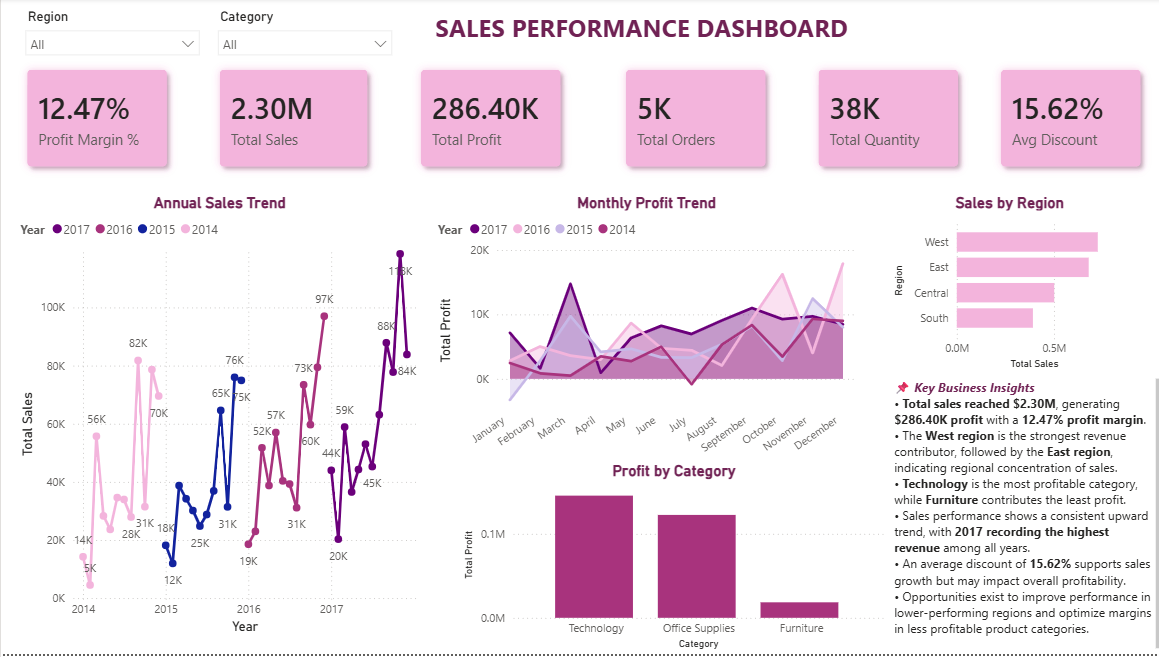

This screenshot's page, from the dashboard's own definition file:
{"tool":"powerbi","page":{"name":"Page 1","canvas":[1280,720],"ordinal":0},"visuals":[{"type":"cardVisual","fields":{"Data":["Orders.Total Sales"]},"box":[211.3,54.9,220.9,159.2],"z":0},{"type":"textbox","box":[463.8,9.6,478.9,54.9],"z":1000},{"type":"cardVisual","fields":{"Data":["Orders.Total Profit"]},"box":[432.2,54.9,211.3,159.2],"z":2000},{"type":"cardVisual","fields":{"Data":["Orders.Total Orders"]},"box":[657.3,54.9,211.3,159.2],"z":3000},{"type":"cardVisual","fields":{"Data":["Orders.Total Quantity"]},"box":[868.6,54.9,211.3,159.2],"z":4000},{"type":"cardVisual","fields":{"Data":["Orders.Profit Margin %"]},"box":[0,54.9,211.3,159.2],"z":5000},{"type":"cardVisual","fields":{"Data":["Orders.Avg Discount"]},"box":[1069,54.9,211.3,159.2],"z":6000},{"type":"slicer","fields":{"Values":["Orders.Region"]},"box":[16.5,6.9,211.3,60.4],"z":7000},{"type":"slicer","fields":{"Values":["Orders.Category"]},"box":[227.8,6.9,211.3,61.7],"z":8000},{"type":"lineChart","title":"Annual Sales Trend","fields":{"Series":["DateTable.Year"],"Y":["Orders.Total Sales"],"Category":["DateTable.Date.Variation.Date Hierarchy.Year","DateTable.Date.Variation.Date Hierarchy.Quarter","DateTable.Date.Variation.Date Hierarchy.Month","DateTable.Date.Variation.Date Hierarchy.Day"]},"box":[16.5,214.1,447.3,488.5],"z":9000},{"type":"areaChart","title":"Monthly Profit Trend","fields":{"Series":["DateTable.Year"],"Y":["Orders.Total Profit"],"Category":["DateTable.Month"]},"box":[474.8,214.1,467.9,321.1],"z":10000},{"type":"clusteredBarChart","title":"Sales by Region","fields":{"Category":["Orders.Region"],"Y":["Orders.Total Sales"]},"box":[975.6,214.1,263.5,199],"z":11000},{"type":"clusteredColumnChart","title":"Profit by Category","fields":{"Category":["Orders.Category"],"Y":["Orders.Total Profit"]},"box":[503.6,509.1,470.7,211.3],"z":12000},{"type":"textbox","box":[975.6,413,304.6,307.4],"z":12001}]}

Visuals, with their boxes in screenshot pixels (x1, y1, x2, y2), scaled from the page's 1280x720 canvas onto the 1159x657 screenshot:
cardVisual - Orders.Total Sales: box=[191, 50, 391, 195]
textbox: box=[420, 9, 854, 59]
cardVisual - Orders.Total Profit: box=[391, 50, 583, 195]
cardVisual - Orders.Total Orders: box=[595, 50, 786, 195]
cardVisual - Orders.Total Quantity: box=[786, 50, 978, 195]
cardVisual - Orders.Profit Margin %: box=[0, 50, 191, 195]
cardVisual - Orders.Avg Discount: box=[968, 50, 1158, 195]
slicer - Orders.Region: box=[15, 6, 206, 61]
slicer - Orders.Category: box=[206, 6, 398, 63]
"Annual Sales Trend" lineChart: box=[15, 195, 420, 641]
"Monthly Profit Trend" areaChart: box=[430, 195, 854, 488]
"Sales by Region" clusteredBarChart: box=[883, 195, 1122, 377]
"Profit by Category" clusteredColumnChart: box=[456, 465, 882, 656]
textbox: box=[883, 377, 1158, 656]
